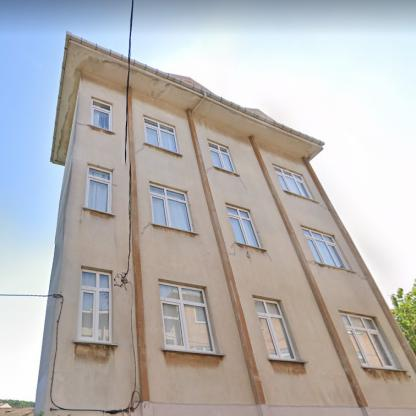window: (159, 282, 213, 352), (340, 314, 394, 366), (254, 299, 295, 359), (80, 270, 109, 342), (150, 185, 192, 231), (301, 228, 347, 269), (226, 206, 261, 248), (273, 167, 312, 199), (144, 117, 178, 152), (86, 166, 110, 213), (208, 142, 234, 172), (92, 100, 110, 130)
